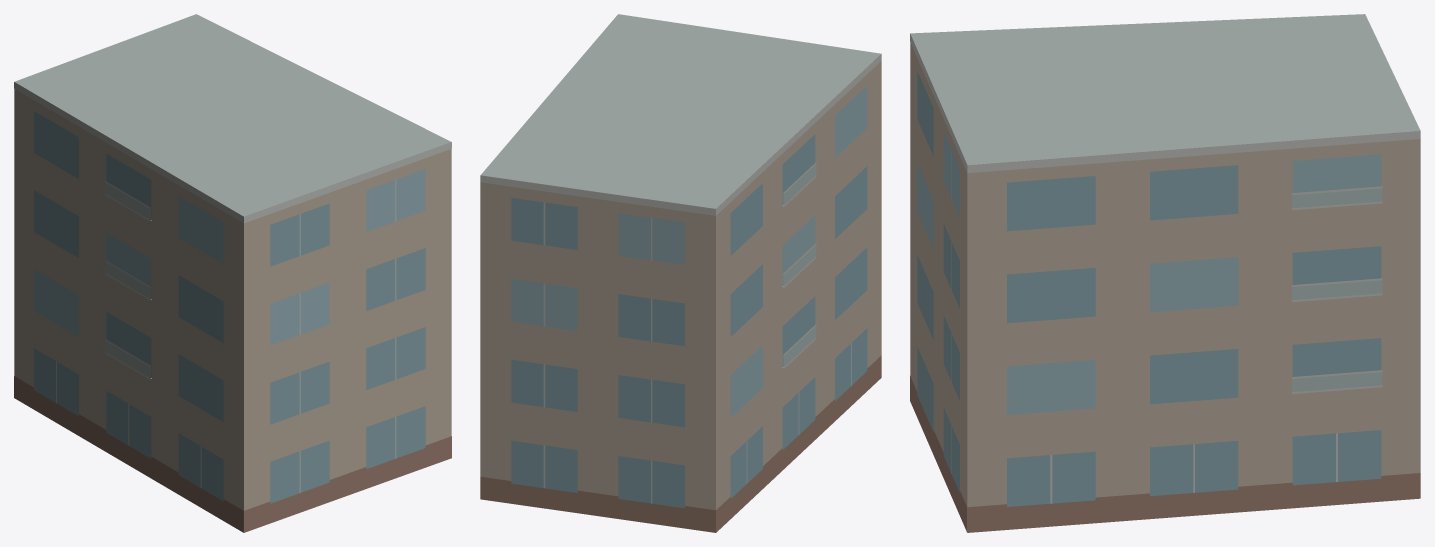
The model's file is survey-upis-32737692.glb.
3 renders of one model, left to right at view 1: azimuth 30°, elevation 25°; view 2: azimuth 150°, elevation 25°; view 3: azimuth 270°, elevation 25°, orthographic. The views are drawn at different scales.
Parts seen in each view (by area): view 1: survey-upis-32737692.tmp; view 2: survey-upis-32737692.tmp; view 3: survey-upis-32737692.tmp.
Part boxes in pixels (box(x1,y1,x2,y2)): survey-upis-32737692.tmp: box(14, 14, 451, 532); survey-upis-32737692.tmp: box(480, 14, 881, 532); survey-upis-32737692.tmp: box(910, 14, 1420, 532).
Size of the model in its own units: 9.98 by 11.3 by 14.23.
